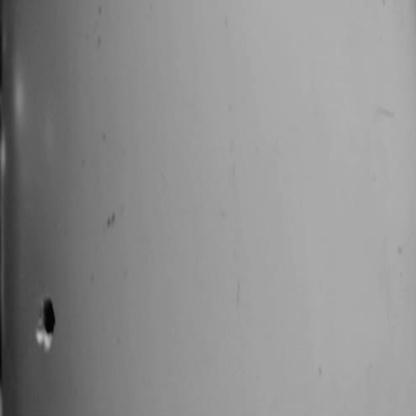kongdong: (32, 288, 65, 346)
